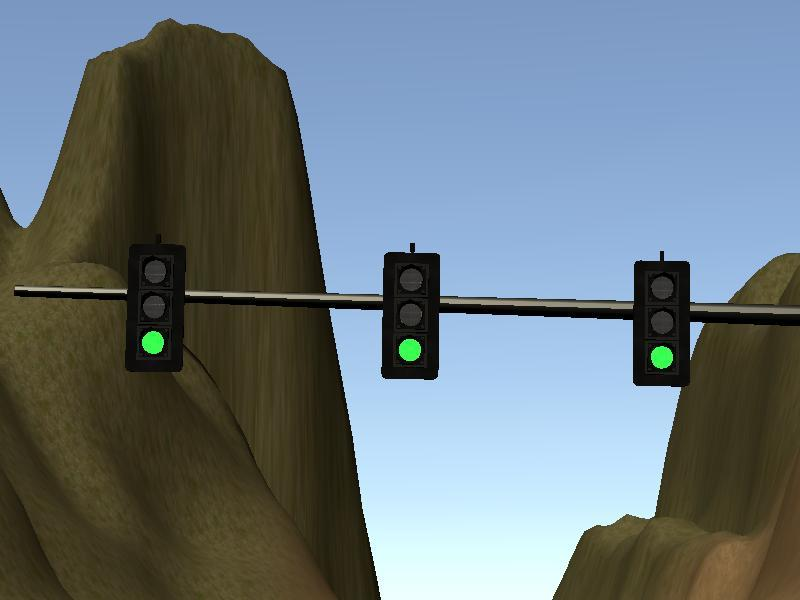Green: (125, 244, 184, 370), (383, 251, 440, 380), (633, 260, 690, 387)
